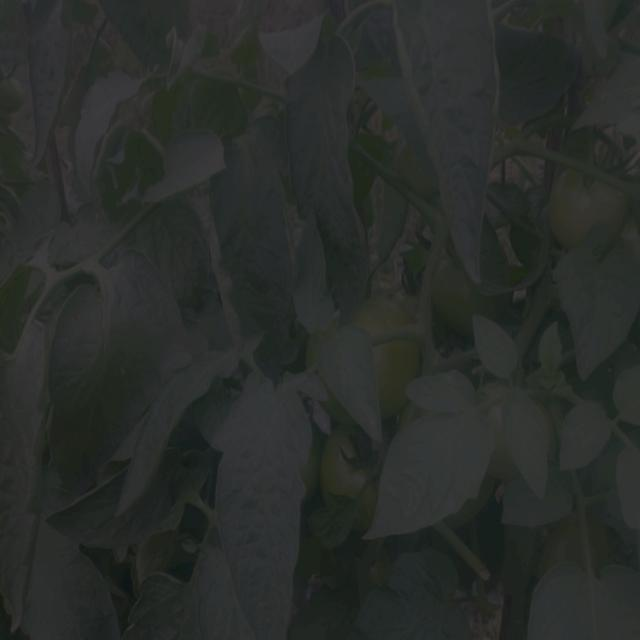tomato: (547, 167, 628, 243), (370, 333, 423, 414), (324, 425, 379, 502), (433, 258, 483, 327), (368, 292, 410, 333), (547, 522, 587, 564)
